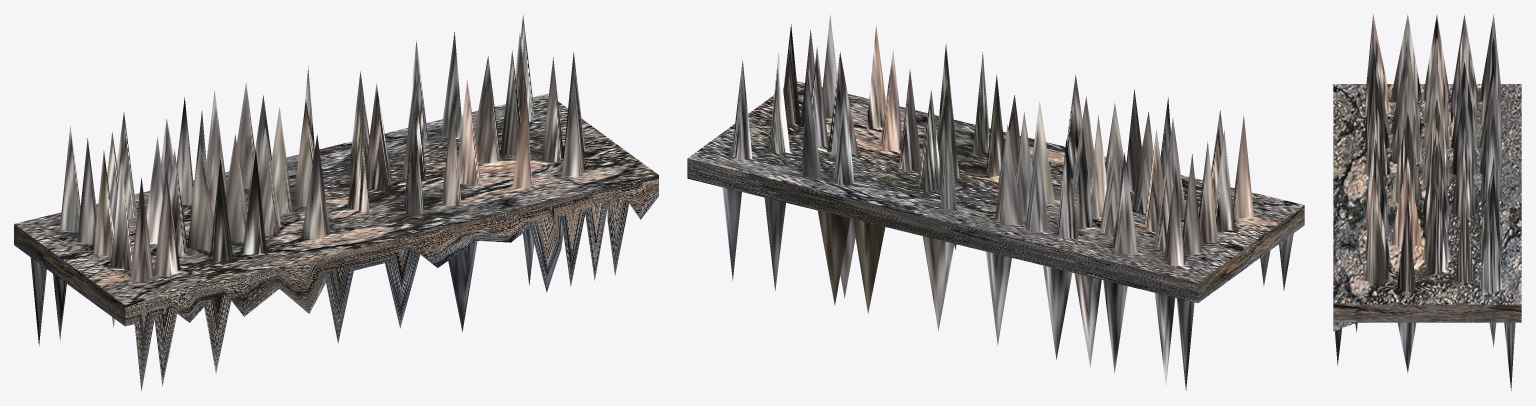
Rendered from spikes.fbx.
3 renders of one model, left to right at view 1: azimuth 30°, elevation 25°; view 2: azimuth 150°, elevation 25°; view 3: azimuth 270°, elevation 25°, orthographic. The views are drawn at different scales.
Parts seen in each view (by area): view 1: polySurface93; view 2: polySurface93; view 3: polySurface93.
Boxes of the visible parts, <box> form: polySurface93: <box>14,15,658,391</box>; polySurface93: <box>687,15,1304,390</box>; polySurface93: <box>1333,14,1521,390</box>.
Size of the model in its own units: 247 by 99.63 by 89.27.
